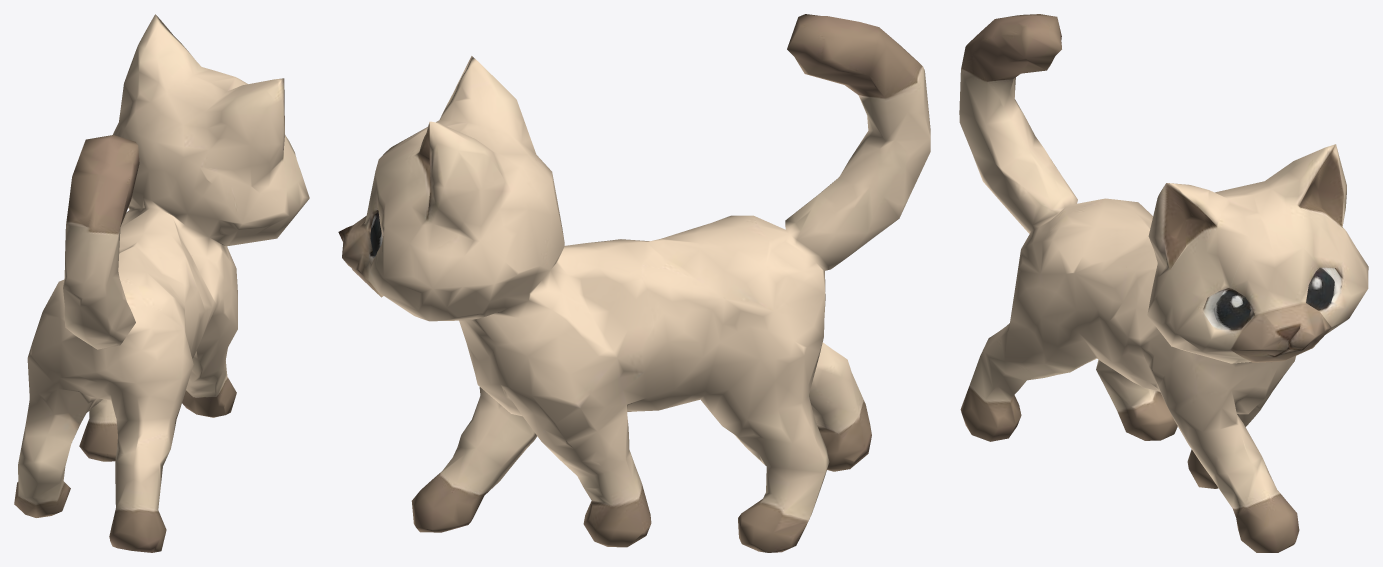
The model's file is cat-walk.glb.
The picture shows the model from 3 angles, left to right: view 1: azimuth 30°, elevation 25°; view 2: azimuth 150°, elevation 25°; view 3: azimuth 270°, elevation 25°; orthographic projection. The views are drawn at different scales.
Parts seen in each view (by area): view 1: tripo_node_1ec051c5-220c-438e-baf1-09d8965c3add; view 2: tripo_node_1ec051c5-220c-438e-baf1-09d8965c3add; view 3: tripo_node_1ec051c5-220c-438e-baf1-09d8965c3add.
Boxes of the visible parts, x1=… form: tripo_node_1ec051c5-220c-438e-baf1-09d8965c3add: x1=14, y1=14, x2=309, y2=552; tripo_node_1ec051c5-220c-438e-baf1-09d8965c3add: x1=338, y1=14, x2=930, y2=552; tripo_node_1ec051c5-220c-438e-baf1-09d8965c3add: x1=959, y1=14, x2=1368, y2=552.
Size of the model in its own units: 0.9257 by 1 by 0.879.
Materials: 1 (1 with a texture image).
